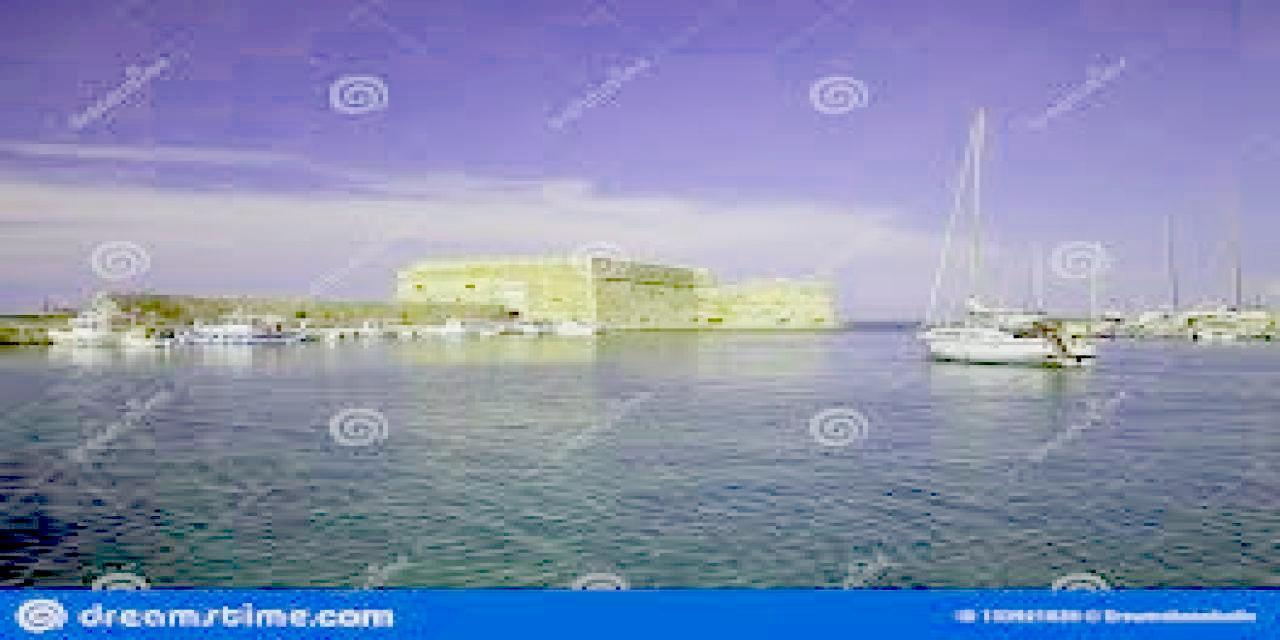Kules: (397, 258, 842, 334)
